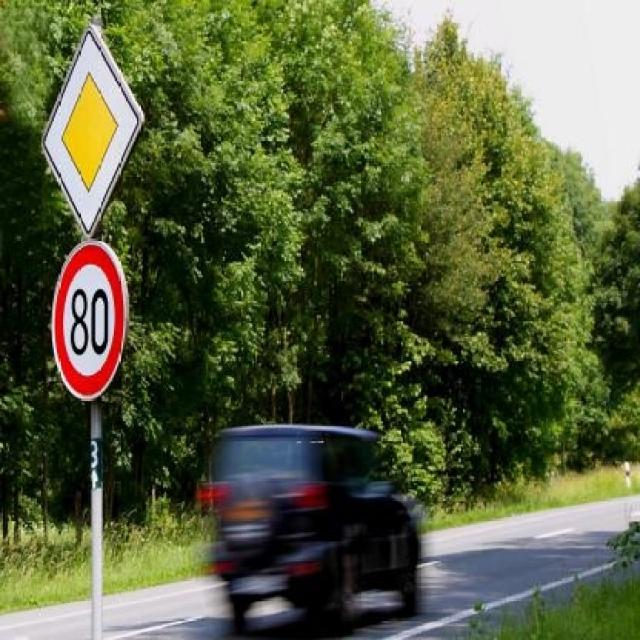forb_speed_over_80: (50, 238, 130, 404)
